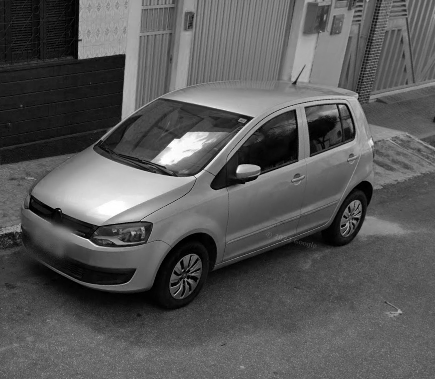car: (18, 63, 377, 311)
